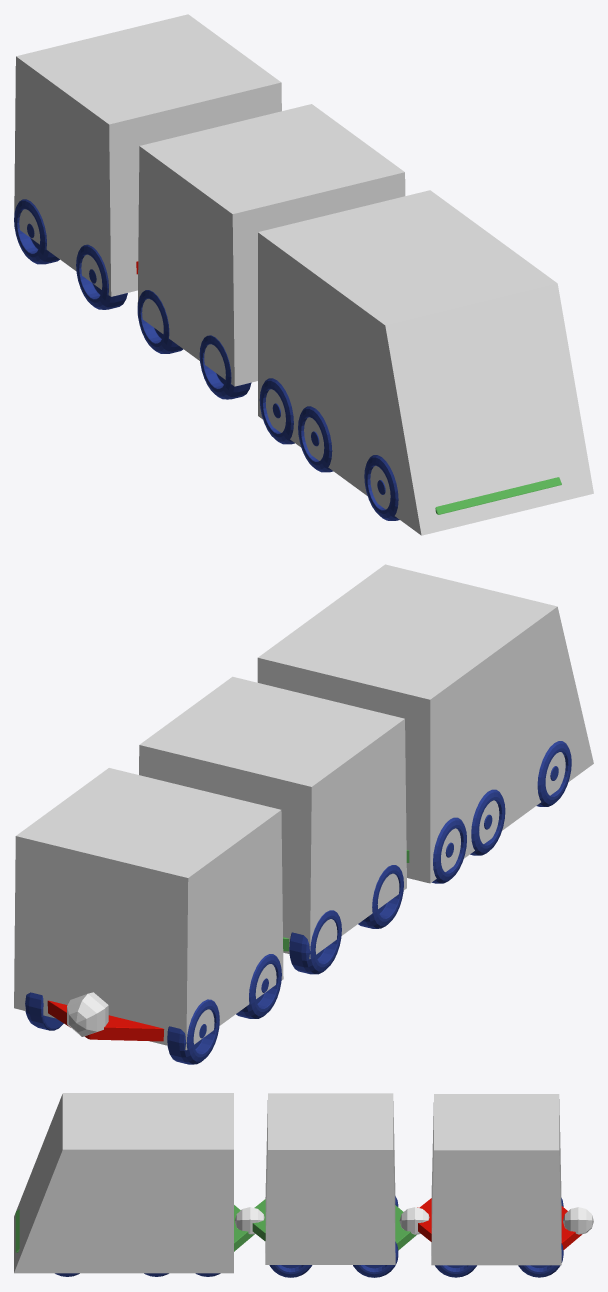
The model's file is Train.fbx.
3 views of the same model, one above another, from view 1: azimuth 30°, elevation 25°; view 2: azimuth 150°, elevation 25°; view 3: azimuth 270°, elevation 25° (orthographic). The views are drawn at different scales.
Parts seen in each view (by area): view 1: Trcoll 1, Trcoll 2, Trcoll 2.001, Train 1, Train 3, Train 2; view 2: Trcoll 2, Trcoll 1, Trcoll 2.001, Train 3, Train 1, Train 2, Trjoint 3; view 3: Trcoll 1, Trcoll 2, Trcoll 2.001, Train 2, Train 3, Train 1, Trjoint 3, Trjoint 2, Trjoint 1.
Part boxes in pixels (bbox=[...]): Trcoll 1: bbox=[258, 190, 593, 535]; Trcoll 2: bbox=[14, 14, 281, 296]; Trcoll 2.001: bbox=[137, 104, 405, 386]; Train 1: bbox=[259, 378, 561, 520]; Train 3: bbox=[14, 199, 138, 309]; Train 2: bbox=[137, 290, 251, 399]; Trcoll 2: bbox=[14, 768, 283, 1050]; Trcoll 1: bbox=[257, 564, 593, 883]; Trcoll 2.001: bbox=[139, 676, 406, 958]; Train 3: bbox=[25, 954, 281, 1064]; Train 1: bbox=[406, 741, 571, 883]; Train 2: bbox=[283, 865, 403, 974]; Trjoint 3: bbox=[67, 992, 108, 1036]; Trcoll 1: bbox=[14, 1093, 233, 1273]; Trcoll 2: bbox=[431, 1094, 561, 1265]; Trcoll 2.001: bbox=[265, 1093, 395, 1264]; Train 2: bbox=[252, 1196, 416, 1277]; Train 3: bbox=[417, 1198, 581, 1277]; Train 1: bbox=[15, 1205, 254, 1276]; Trjoint 3: bbox=[563, 1207, 593, 1234]; Trjoint 2: bbox=[399, 1207, 429, 1234]; Trjoint 1: bbox=[234, 1207, 264, 1234].
Bounding box in the file's own units: 203 × 219 × 867.
